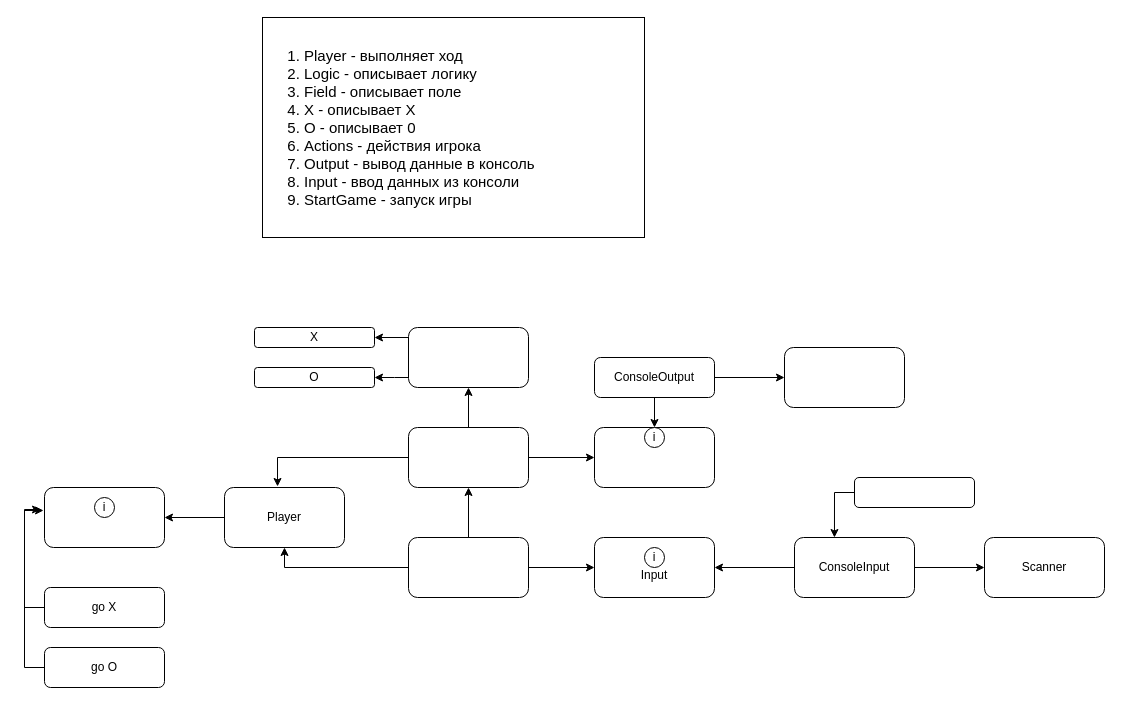
The diagram is 1122 pixels wide and 705 high, and some of its shapes have lost their labels. The box of each missing label's shape, as (x1, y1, x2, y2) in pixels:
Actions: (44, 486, 164, 548)
Field: (408, 326, 528, 388)
Logic: (408, 426, 528, 488)
Output: (594, 426, 714, 488)
StartGame: (408, 536, 528, 598)
System.IO: (784, 346, 904, 408)
ValidateInput: (854, 476, 974, 508)
